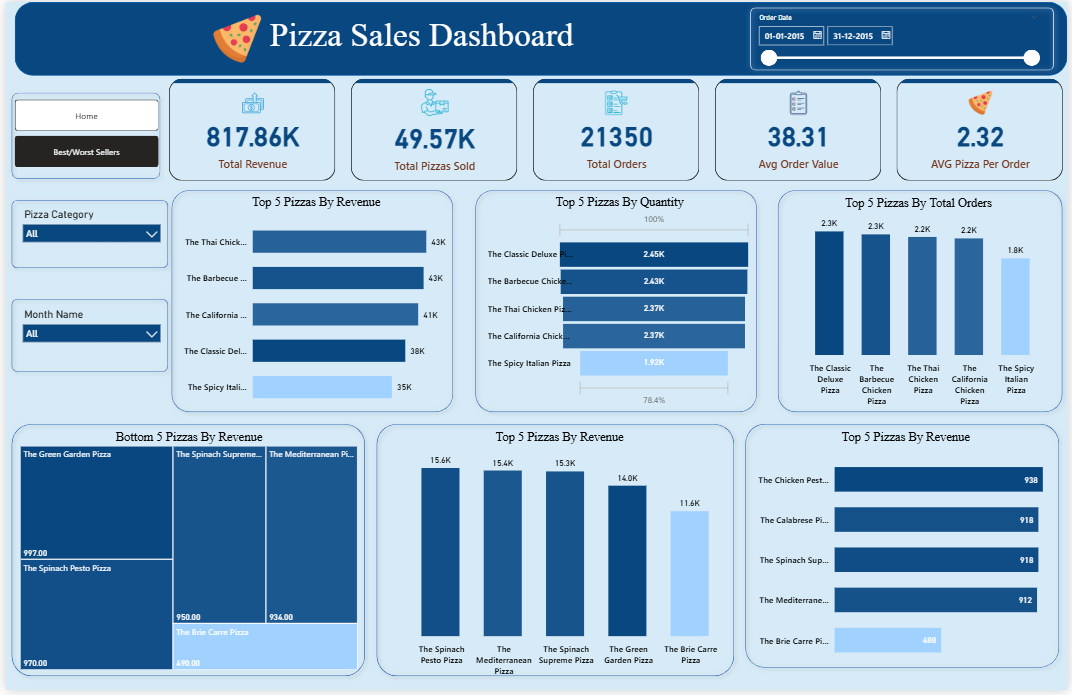

The page's visual inventory and layout, read from the dashboard file:
{"tool":"powerbi","page":{"name":"Best/Worst Sellers","canvas":[1700,1100],"ordinal":1},"visuals":[{"type":"cardVisual","fields":{"Data":["pizza_sales.Total Revenue","pizza_sales.Total Pizzas Sold","pizza_sales.Total Orders","pizza_sales.Avg Order Value","pizza_sales.AVG Pizza Per Order"]},"box":[256.2,118,1441.4,173.3],"z":0},{"type":"shape","box":[14,0,1684,118],"z":1000},{"type":"textbox","box":[92,18,1066,86],"z":2000},{"type":"image","box":[190,14,360,90],"z":3000},{"type":"shape","box":[256.7,291.7,468.3,373.3],"z":4000},{"type":"group","id":"g1","title":"Group 1","box":[0,308.3,268.3,126.7],"z":5000},{"type":"group","id":"g2","title":"Group 1","box":[0,466.7,268.3,135],"z":6000},{"type":"shape","box":[741.7,291.7,468.3,373.3],"z":7000},{"type":"shape","box":[1225,291.7,473.3,373.3],"z":8000},{"type":"shape","box":[0,665,583.3,421.7],"z":9000,"group":"g3"},{"type":"shape","box":[1173.3,665,520,408.3],"z":9000,"group":"g5"},{"type":"barChart","title":"Top 5 Pizzas By Revenue","fields":{"Y":["pizza_sales.Total Revenue"],"Category":["pizza_sales.pizza_name"]},"box":[268.3,308.3,456.7,356.7],"z":10000},{"type":"shape","box":[583.3,665,590,421.7],"z":10000,"group":"g4"},{"type":"funnel","title":"Top 5 Pizzas By Quantity","fields":{"Category":["pizza_sales.pizza_name"],"Y":["Sum(pizza_sales.quantity)"]},"box":[765,308.3,431.7,345],"z":11000},{"type":"columnChart","title":"Top 5 Pizzas By Total Orders","fields":{"Category":["pizza_sales.pizza_name"],"Y":["pizza_sales.Total Orders"]},"box":[1243.3,310,431.7,345],"z":12000},{"type":"barChart","title":"Top 5 Pizzas By Revenue","fields":{"Category":["pizza_sales.pizza_name"],"Y":["pizza_sales.Total Orders"]},"box":[1186.3,683.2,507,390.1],"z":13000,"group":"g5"},{"type":"shape","box":[1182.2,0,503.3,118.3],"z":14000,"group":"g6"},{"type":"shape","box":[0,308.3,268.3,126.7],"z":14000,"group":"g1"},{"type":"shape","box":[0,466.7,268.3,135],"z":14000,"group":"g2"},{"type":"group","id":"g3","title":"Group 2","box":[0,665,583.3,421.7],"z":14000},{"type":"slicer","fields":{"Values":["pizza_sales.order_date"]},"box":[1192.2,13.3,470,90],"z":15000,"group":"g6"},{"type":"slicer","fields":{"Values":["pizza_sales.pizza_category"]},"box":[15,324.4,241.7,94.5],"z":15000,"group":"g1"},{"type":"slicer","fields":{"Values":["pizza_sales.Month Name"]},"box":[15,483.8,241.7,100.7],"z":15000,"group":"g2"},{"type":"group","id":"g4","title":"Group 3","box":[583.3,665,590,421.7],"z":15000},{"type":"treemap","title":"Bottom 5 Pizzas By Revenue","fields":{"Group":["pizza_sales.pizza_name"],"Values":["Sum(pizza_sales.quantity)"]},"box":[17.7,682.6,549.5,389.2],"z":15000,"group":"g3"},{"type":"group","id":"g5","title":"Group 4","box":[1173.3,665,520,408.3],"z":15001},{"type":"columnChart","title":"Top 5 Pizzas By Revenue","fields":{"Category":["pizza_sales.pizza_name"],"Y":["pizza_sales.Total Revenue"]},"box":[598,683.8,575.3,402.8],"z":15001,"group":"g4"},{"type":"shape","box":[0,135,256,156],"z":15002},{"type":"pageNavigator","box":[13.3,155,230,50],"z":15003},{"type":"pageNavigator","box":[13.3,213.3,230,50],"z":15004},{"type":"group","id":"g6","title":"Group 1","box":[1182.2,0,503.3,118.3],"z":15005}]}

Visuals, with their boxes in screenshot pixels (x1, y1, x2, y2), scaled from the page's 1700x1100 canvas onto the 1072x695 screenshot:
cardVisual - pizza_sales.Total Revenue x pizza_sales.Total Pizzas Sold: bbox=(162, 75, 1070, 184)
shape: bbox=(9, 0, 1071, 75)
textbox: bbox=(58, 11, 730, 66)
image: bbox=(120, 9, 347, 66)
shape: bbox=(162, 184, 457, 420)
"Group 1" group: bbox=(0, 195, 169, 275)
"Group 1" group: bbox=(0, 295, 169, 380)
shape: bbox=(468, 184, 763, 420)
shape: bbox=(772, 184, 1071, 420)
shape: bbox=(0, 420, 368, 687)
shape: bbox=(740, 420, 1068, 678)
"Top 5 Pizzas By Revenue" barChart: bbox=(169, 195, 457, 420)
shape: bbox=(368, 420, 740, 687)
"Top 5 Pizzas By Quantity" funnel: bbox=(482, 195, 755, 413)
"Top 5 Pizzas By Total Orders" columnChart: bbox=(784, 196, 1056, 414)
"Top 5 Pizzas By Revenue" barChart: bbox=(748, 432, 1068, 678)
shape: bbox=(745, 0, 1063, 75)
shape: bbox=(0, 195, 169, 275)
shape: bbox=(0, 295, 169, 380)
"Group 2" group: bbox=(0, 420, 368, 687)
slicer - pizza_sales.order_date: bbox=(752, 8, 1048, 65)
slicer - pizza_sales.pizza_category: bbox=(9, 205, 162, 265)
slicer - pizza_sales.Month Name: bbox=(9, 306, 162, 369)
"Group 3" group: bbox=(368, 420, 740, 687)
"Bottom 5 Pizzas By Revenue" treemap: bbox=(11, 431, 358, 677)
"Group 4" group: bbox=(740, 420, 1068, 678)
"Top 5 Pizzas By Revenue" columnChart: bbox=(377, 432, 740, 687)
shape: bbox=(0, 85, 161, 184)
pageNavigator: bbox=(8, 98, 153, 130)
pageNavigator: bbox=(8, 135, 153, 166)
"Group 1" group: bbox=(745, 0, 1063, 75)
